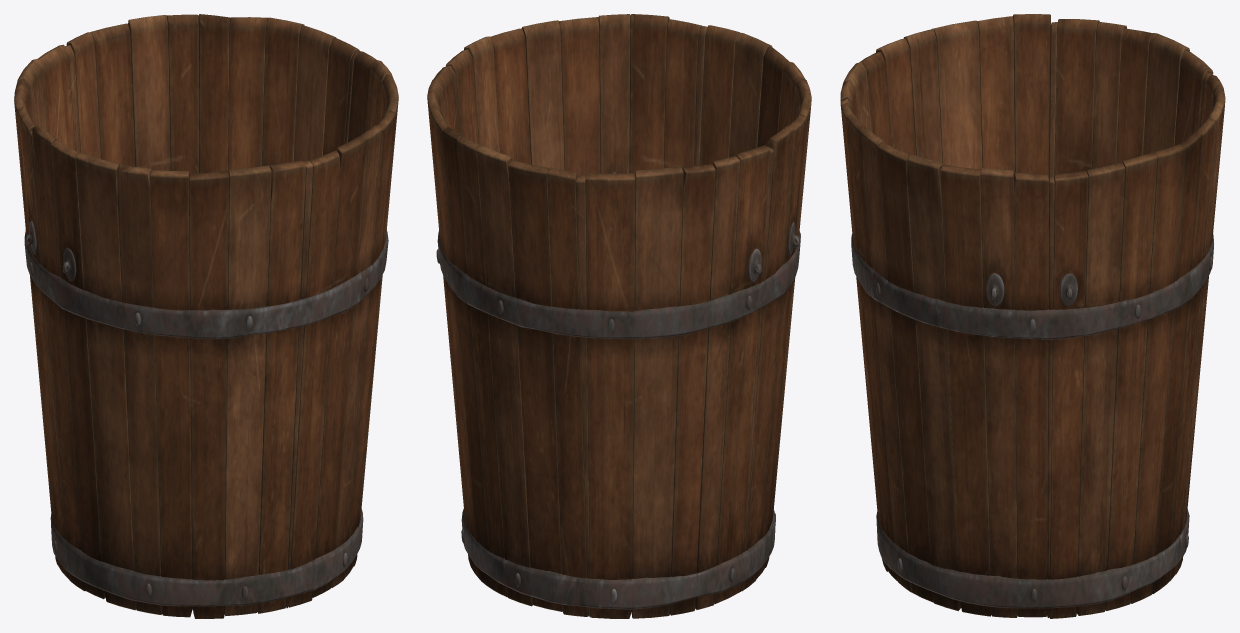
The model's file is chouqiantong.fbx.
3 renders of one model, left to right at view 1: azimuth 30°, elevation 25°; view 2: azimuth 150°, elevation 25°; view 3: azimuth 270°, elevation 25°, orthographic.
Visible parts, largest first — view 1: wooden_bucket_02; view 2: wooden_bucket_02; view 3: wooden_bucket_02.
Part boxes in pixels (x1,y1,x2,y2): wooden_bucket_02: (14,14,398,618); wooden_bucket_02: (427,14,811,618); wooden_bucket_02: (840,14,1225,618).
Bounding box in the file's own units: 23.94 × 31.88 × 23.98.
1 material, 1 textured.
